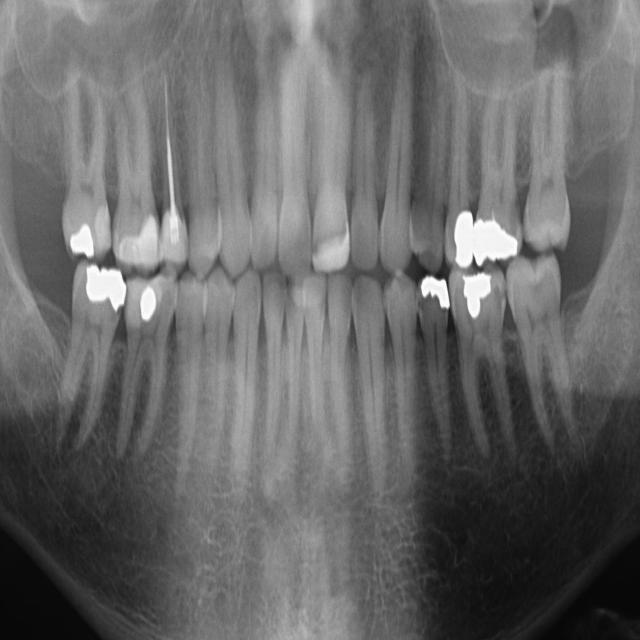dolgu: (70, 260, 134, 326), (472, 203, 525, 270), (454, 266, 504, 335), (66, 196, 109, 269), (439, 199, 481, 272), (316, 210, 356, 283), (122, 279, 171, 334), (116, 216, 161, 269), (409, 274, 457, 321)
kanal-tedavisi: (154, 84, 194, 214)
